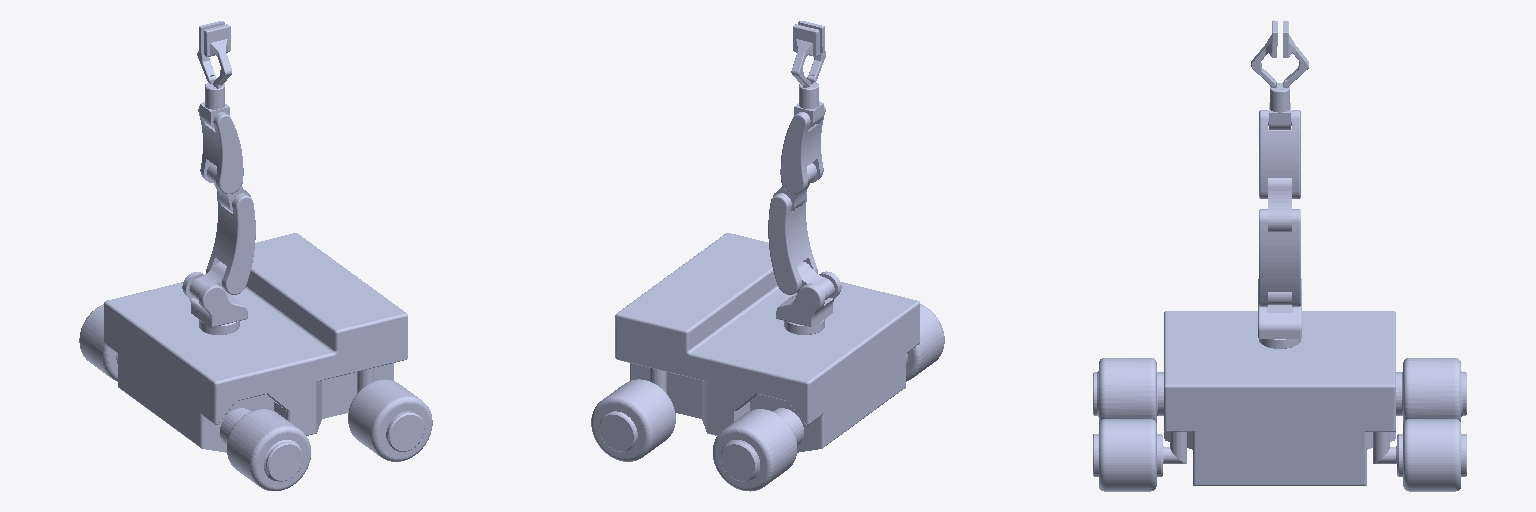
URDF robot description (robot_arm):
<?xml version="1.0" encoding="utf-8"?>
<!-- This URDF was automatically created by SolidWorks to URDF Exporter! Originally created by [author] ([email redacted]) 
     Commit Version: 1.6.0-1-g15f4949  Build Version: 1.6.7594.29634
     For more information, please see http://wiki.ros.org/sw_urdf_exporter -->
<robot
  name="robot_arm">
  <link
    name="base_link">
    <inertial>
      <origin
        xyz="0.05079 0.43644 -3.929E-09"
        rpy="0 0 0" />
      <mass
        value="473.23" />
      <inertia
        ixx="160.51"
        ixy="-15.419"
        ixz="-3.821E-06"
        iyy="285.82"
        iyz="-2.0854E-06"
        izz="189.48" />
    </inertial>
    <visual>
      <origin
        xyz="0 0 0"
        rpy="0 0 0" />
      <geometry>
        <mesh
          filename="package://robot_arm/meshes/base_link.STL" />
      </geometry>
      <material
        name="">
        <color
          rgba="0.79216 0.81961 0.93333 1" />
      </material>
    </visual>
    <collision>
      <origin
        xyz="0 0 0"
        rpy="0 0 0" />
      <geometry>
        <mesh
          filename="package://robot_arm/meshes/base_link.STL" />
      </geometry>
    </collision>
  </link>
  <link
    name="rear_transmission">
    <inertial>
      <origin
        xyz="-3.9489E-15 -2.7756E-17 0"
        rpy="0 0 0" />
      <mass
        value="68.804" />
      <inertia
        ixx="2.6008"
        ixy="-1.8244E-15"
        ixz="-6.4608E-15"
        iyy="100.77"
        iyz="-1.3756E-31"
        izz="100.77" />
    </inertial>
    <visual>
      <origin
        xyz="0 0 0"
        rpy="0 0 0" />
      <geometry>
        <mesh
          filename="package://robot_arm/meshes/rear_transmission.STL" />
      </geometry>
      <material
        name="">
        <color
          rgba="0.79216 0.81961 0.93333 1" />
      </material>
    </visual>
    <collision>
      <origin
        xyz="0 0 0"
        rpy="0 0 0" />
      <geometry>
        <mesh
          filename="package://robot_arm/meshes/rear_transmission.STL" />
      </geometry>
    </collision>
  </link>
  <joint
    name="rear_transmission_joint"
    type="continuous">
    <origin
      xyz="-0.625 0 0.125"
      rpy="-1.5708 0 -1.5708" />
    <parent
      link="base_link" />
    <child
      link="rear_transmission" />
    <axis
      xyz="1 0 0" />
  </joint>
  <link
    name="front_left_pivot">
    <inertial>
      <origin
        xyz="-5.2398E-07 0.19906 -0.33437"
        rpy="0 0 0" />
      <mass
        value="10.4" />
      <inertia
        ixx="0.99062"
        ixy="1.52E-08"
        ixz="3.0168E-08"
        iyy="0.67248"
        iyz="-0.25753"
        izz="0.43151" />
    </inertial>
    <visual>
      <origin
        xyz="0 0 0"
        rpy="0 0 0" />
      <geometry>
        <mesh
          filename="package://robot_arm/meshes/front_left_pivot.STL" />
      </geometry>
      <material
        name="">
        <color
          rgba="0.79216 0.81961 0.93333 1" />
      </material>
    </visual>
    <collision>
      <origin
        xyz="0 0 0"
        rpy="0 0 0" />
      <geometry>
        <mesh
          filename="package://robot_arm/meshes/front_left_pivot.STL" />
      </geometry>
    </collision>
  </link>
  <joint
    name="front_left_pivot_joint"
    type="continuous">
    <origin
      xyz="0.62278 0.875 0"
      rpy="1.5708 0 0" />
    <parent
      link="base_link" />
    <child
      link="front_left_pivot" />
    <axis
      xyz="0 1 0" />
  </joint>
  <link
    name="front_left_wheel">
    <inertial>
      <origin
        xyz="0.25 0 -4.6629E-15"
        rpy="0 0 0" />
      <mass
        value="18.056" />
      <inertia
        ixx="1.0932"
        ixy="-5.7774E-33"
        ixz="-6.5206E-16"
        iyy="0.91001"
        iyz="2.2598E-33"
        izz="0.91001" />
    </inertial>
    <visual>
      <origin
        xyz="0 0 0"
        rpy="0 0 0" />
      <geometry>
        <mesh
          filename="package://robot_arm/meshes/front_left_wheel.STL" />
      </geometry>
      <material
        name="">
        <color
          rgba="0.79216 0.81961 0.93333 1" />
      </material>
    </visual>
    <collision>
      <origin
        xyz="0 0 0"
        rpy="0 0 0" />
      <geometry>
        <mesh
          filename="package://robot_arm/meshes/front_left_wheel.STL" />
      </geometry>
    </collision>
  </link>
  <joint
    name="front_left_wheel_joint"
    type="continuous">
    <origin
      xyz="0 0.125 -0.1875"
      rpy="0 1.5708 0" />
    <parent
      link="front_left_pivot" />
    <child
      link="front_left_wheel" />
    <axis
      xyz="1 0 0" />
  </joint>
  <link
    name="front_right_pivot">
    <inertial>
      <origin
        xyz="-5.2398E-07 0.19906 -0.33437"
        rpy="0 0 0" />
      <mass
        value="10.4" />
      <inertia
        ixx="0.99062"
        ixy="1.52E-08"
        ixz="3.0168E-08"
        iyy="0.67248"
        iyz="-0.25753"
        izz="0.43151" />
    </inertial>
    <visual>
      <origin
        xyz="0 0 0"
        rpy="0 0 0" />
      <geometry>
        <mesh
          filename="package://robot_arm/meshes/front_right_pivot.STL" />
      </geometry>
      <material
        name="">
        <color
          rgba="0.79216 0.81961 0.93333 1" />
      </material>
    </visual>
    <collision>
      <origin
        xyz="0 0 0"
        rpy="0 0 0" />
      <geometry>
        <mesh
          filename="package://robot_arm/meshes/front_right_pivot.STL" />
      </geometry>
    </collision>
  </link>
  <joint
    name="front_right_pivot_joint"
    type="continuous">
    <origin
      xyz="0.62278 -0.875 0"
      rpy="1.5708 0 3.1416" />
    <parent
      link="base_link" />
    <child
      link="front_right_pivot" />
    <axis
      xyz="0 1 0" />
  </joint>
  <link
    name="front_right_wheel">
    <inertial>
      <origin
        xyz="-0.25 2.9143E-16 4.5519E-15"
        rpy="0 0 0" />
      <mass
        value="18.056" />
      <inertia
        ixx="1.0932"
        ixy="-3.8516E-33"
        ixz="-6.5206E-16"
        iyy="0.91001"
        iyz="2.2598E-33"
        izz="0.91001" />
    </inertial>
    <visual>
      <origin
        xyz="0 0 0"
        rpy="0 0 0" />
      <geometry>
        <mesh
          filename="package://robot_arm/meshes/front_right_wheel.STL" />
      </geometry>
      <material
        name="">
        <color
          rgba="0.79216 0.81961 0.93333 1" />
      </material>
    </visual>
    <collision>
      <origin
        xyz="0 0 0"
        rpy="0 0 0" />
      <geometry>
        <mesh
          filename="package://robot_arm/meshes/front_right_wheel.STL" />
      </geometry>
    </collision>
  </link>
  <joint
    name="front_right_wheel_joint"
    type="continuous">
    <origin
      xyz="0 0.125 -0.1875"
      rpy="3.1416 -1.5708 0" />
    <parent
      link="front_right_pivot" />
    <child
      link="front_right_wheel" />
    <axis
      xyz="1 0 0" />
  </joint>
  <link
    name="rotating_arm">
    <inertial>
      <origin
        xyz="-8.0067E-09 0.22058 -0.042397"
        rpy="0 0 0" />
      <mass
        value="6.073" />
      <inertia
        ixx="0.15042"
        ixy="-4.406E-09"
        ixz="3.0039E-08"
        iyy="0.16036"
        iyz="0.03538"
        izz="0.15404" />
    </inertial>
    <visual>
      <origin
        xyz="0 0 0"
        rpy="0 0 0" />
      <geometry>
        <mesh
          filename="package://robot_arm/meshes/rotating_arm.STL" />
      </geometry>
      <material
        name="">
        <color
          rgba="0.79216 0.81961 0.93333 1" />
      </material>
    </visual>
    <collision>
      <origin
        xyz="0 0 0"
        rpy="0 0 0" />
      <geometry>
        <mesh
          filename="package://robot_arm/meshes/rotating_arm.STL" />
      </geometry>
    </collision>
  </link>
  <joint
    name="rotating_arm_joint"
    type="revolute">
    <origin
      xyz="-0.37722 0 0.75"
      rpy="1.5708 0 1.5708" />
    <parent
      link="base_link" />
    <child
      link="rotating_arm" />
    <axis
      xyz="0 1 0" />
    <limit
      lower="-0.1"
      upper="0.1"
      effort="30"
      velocity="0.8" />
  </joint>
  <link
    name="extending_arm">
    <inertial>
      <origin
        xyz="-4.3203E-16 -0.38189 0.26262"
        rpy="0 0 0" />
      <mass
        value="10.246" />
      <inertia
        ixx="0.82536"
        ixy="-4.5108E-16"
        ixz="8.3461E-16"
        iyy="0.22895"
        iyz="0.1708"
        izz="0.83089" />
    </inertial>
    <visual>
      <origin
        xyz="0 0 0"
        rpy="0 0 0" />
      <geometry>
        <mesh
          filename="package://robot_arm/meshes/extending_arm.STL" />
      </geometry>
      <material
        name="">
        <color
          rgba="0.79216 0.81961 0.93333 1" />
      </material>
    </visual>
    <collision>
      <origin
        xyz="0 0 0"
        rpy="0 0 0" />
      <geometry>
        <mesh
          filename="package://robot_arm/meshes/extending_arm.STL" />
      </geometry>
    </collision>
  </link>
  <joint
    name="extending_arm_joint"
    type="revolute">
    <origin
      xyz="0 0.38 -0.1539"
      rpy="-0.016689 0 3.1416" />
    <parent
      link="rotating_arm" />
    <child
      link="extending_arm" />
    <axis
      xyz="1 0 0" />
    <limit
      lower="-0.1"
      upper="0.1"
      effort="30"
      velocity="0.8" />
  </joint>
  <link
    name="picking_arm">
    <inertial>
      <origin
        xyz="0.21069 0.37923 -4.7848E-16"
        rpy="0 0 0" />
      <mass
        value="8.7472" />
      <inertia
        ixx="0.61578"
        ixy="-0.21275"
        ixz="-1.3361E-16"
        iyy="0.21938"
        iyz="1.0997E-15"
        izz="0.65117" />
    </inertial>
    <visual>
      <origin
        xyz="0 0 0"
        rpy="0 0 0" />
      <geometry>
        <mesh
          filename="package://robot_arm/meshes/picking_arm.STL" />
      </geometry>
      <material
        name="">
        <color
          rgba="0.79216 0.81961 0.93333 1" />
      </material>
    </visual>
    <collision>
      <origin
        xyz="0 0 0"
        rpy="0 0 0" />
      <geometry>
        <mesh
          filename="package://robot_arm/meshes/picking_arm.STL" />
      </geometry>
    </collision>
  </link>
  <joint
    name="picking_arm_joint"
    type="revolute">
    <origin
      xyz="0 -0.84976 0.30067"
      rpy="1.5708 1.3576 -1.5708" />
    <parent
      link="extending_arm" />
    <child
      link="picking_arm" />
    <axis
      xyz="0 0 1" />
    <limit
      lower="-0.1"
      upper="0.1"
      effort="30"
      velocity="0.8" />
  </joint>
  <link
    name="jaw_arm">
    <inertial>
      <origin
        xyz="0.10169 -6.1062E-16 -2.1115E-15"
        rpy="0 0 0" />
      <mass
        value="1.7878" />
      <inertia
        ixx="0.0096899"
        ixy="-6.6155E-17"
        ixz="1.3752E-18"
        iyy="0.027661"
        iyz="3.5404E-20"
        izz="0.027738" />
    </inertial>
    <visual>
      <origin
        xyz="0 0 0"
        rpy="0 0 0" />
      <geometry>
        <mesh
          filename="package://robot_arm/meshes/jaw_arm.STL" />
      </geometry>
      <material
        name="">
        <color
          rgba="0.79216 0.81961 0.93333 1" />
      </material>
    </visual>
    <collision>
      <origin
        xyz="0 0 0"
        rpy="0 0 0" />
      <geometry>
        <mesh
          filename="package://robot_arm/meshes/jaw_arm.STL" />
      </geometry>
    </collision>
  </link>
  <joint
    name="jaw_arm_joint"
    type="revolute">
    <origin
      xyz="0.39805 0.79363 0"
      rpy="3.1416 0 1.3409" />
    <parent
      link="picking_arm" />
    <child
      link="jaw_arm" />
    <axis
      xyz="0 0 1" />
    <limit
      lower="-0.1"
      upper="0.1"
      effort="30"
      velocity="0.8" />
  </joint>
  <link
    name="left_jaw">
    <inertial>
      <origin
        xyz="-2.2815E-08 0.32731 -0.038494"
        rpy="0 0 0" />
      <mass
        value="5.4771" />
      <inertia
        ixx="0.1259"
        ixy="-3.6284E-09"
        ixz="-1.839E-09"
        iyy="0.035165"
        iyz="-0.026696"
        izz="0.12677" />
    </inertial>
    <visual>
      <origin
        xyz="0 0 0"
        rpy="0 0 0" />
      <geometry>
        <mesh
          filename="package://robot_arm/meshes/left_jaw.STL" />
      </geometry>
      <material
        name="">
        <color
          rgba="0.79216 0.81961 0.93333 1" />
      </material>
    </visual>
    <collision>
      <origin
        xyz="0 0 0"
        rpy="0 0 0" />
      <geometry>
        <mesh
          filename="package://robot_arm/meshes/left_jaw.STL" />
      </geometry>
    </collision>
  </link>
  <joint
    name="left_jaw_joint"
    type="revolute">
    <origin
      xyz="0.335 0 -0.055"
      rpy="0 0 -1.5708" />
    <parent
      link="jaw_arm" />
    <child
      link="left_jaw" />
    <axis
      xyz="1 0 0" />
    <limit
      lower="-0.1"
      upper="0.1"
      effort="30"
      velocity="0.8" />
  </joint>
  <link
    name="right_jaw">
    <inertial>
      <origin
        xyz="-2.2013E-08 0.32731 -0.038494"
        rpy="0 0 0" />
      <mass
        value="5.4771" />
      <inertia
        ixx="0.1259"
        ixy="-3.4619E-09"
        ixz="-1.7716E-09"
        iyy="0.035165"
        iyz="-0.026696"
        izz="0.12677" />
    </inertial>
    <visual>
      <origin
        xyz="0 0 0"
        rpy="0 0 0" />
      <geometry>
        <mesh
          filename="package://robot_arm/meshes/right_jaw.STL" />
      </geometry>
      <material
        name="">
        <color
          rgba="0.79216 0.81961 0.93333 1" />
      </material>
    </visual>
    <collision>
      <origin
        xyz="0 0 0"
        rpy="0 0 0" />
      <geometry>
        <mesh
          filename="package://robot_arm/meshes/right_jaw.STL" />
      </geometry>
    </collision>
  </link>
  <joint
    name="right_jaw_joint"
    type="revolute">
    <origin
      xyz="0.335 0 0.055"
      rpy="-3.1211 0 1.5708" />
    <parent
      link="jaw_arm" />
    <child
      link="right_jaw" />
    <axis
      xyz="1 0 0" />
    <limit
      lower="-0.1"
      upper="0.1"
      effort="30"
      velocity="0.8" />
  </joint>
</robot>

--- Facts derived from the render (not from the file) ---
The picture shows the robot from 3 angles, left to right: view 1: azimuth 30°, elevation 25°; view 2: azimuth 150°, elevation 25°; view 3: azimuth 270°, elevation 25°; orthographic projection.
Robot: robot_arm — 12 links, 11 joints (6 revolute, 5 continuous); root link base_link; default pose: every joint at zero.
Visible links, largest first — view 1: base_link, rear_transmission, front_right_wheel, extending_arm, picking_arm, rotating_arm, front_right_pivot, right_jaw, jaw_arm; view 2: base_link, rear_transmission, front_left_wheel, extending_arm, picking_arm, rotating_arm, front_left_pivot, left_jaw, jaw_arm; view 3: base_link, rear_transmission, front_left_wheel, front_right_wheel, picking_arm, extending_arm, rotating_arm, front_left_pivot, front_right_pivot, jaw_arm, left_jaw, right_jaw.
Boxes of the visible links, x1,y1,x2,y2 form: base_link: (104, 233, 407, 452); rear_transmission: (79, 304, 310, 490); front_right_wheel: (348, 379, 432, 461); extending_arm: (189, 192, 255, 299); picking_arm: (198, 102, 250, 211); rotating_arm: (182, 272, 247, 334); front_right_pivot: (357, 368, 424, 451); right_jaw: (204, 24, 231, 86); jaw_arm: (200, 76, 229, 128); base_link: (615, 233, 919, 452); rear_transmission: (713, 304, 944, 491); front_left_wheel: (591, 379, 675, 461); extending_arm: (768, 192, 834, 299); picking_arm: (773, 101, 825, 211); rotating_arm: (776, 271, 841, 334); front_left_pivot: (599, 368, 666, 451); left_jaw: (791, 24, 819, 86); jaw_arm: (794, 76, 823, 128); base_link: (1164, 311, 1395, 485); rear_transmission: (1093, 358, 1466, 422); front_left_wheel: (1403, 419, 1460, 491); front_right_wheel: (1099, 419, 1156, 491); picking_arm: (1259, 110, 1300, 231); extending_arm: (1259, 209, 1300, 306); rotating_arm: (1258, 279, 1301, 348); front_left_pivot: (1373, 432, 1466, 476); front_right_pivot: (1093, 432, 1186, 476); jaw_arm: (1268, 80, 1291, 129); left_jaw: (1283, 21, 1308, 87); right_jaw: (1251, 20, 1277, 87).
Size in the robot's own frame: 2 by 3.23 by 3.9 metres.
12 mesh visuals loaded from 12 distinct referenced files (12 binary STL).